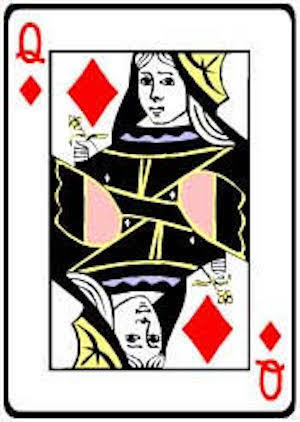QueenOfDiamonds: (8, 5, 295, 416)
